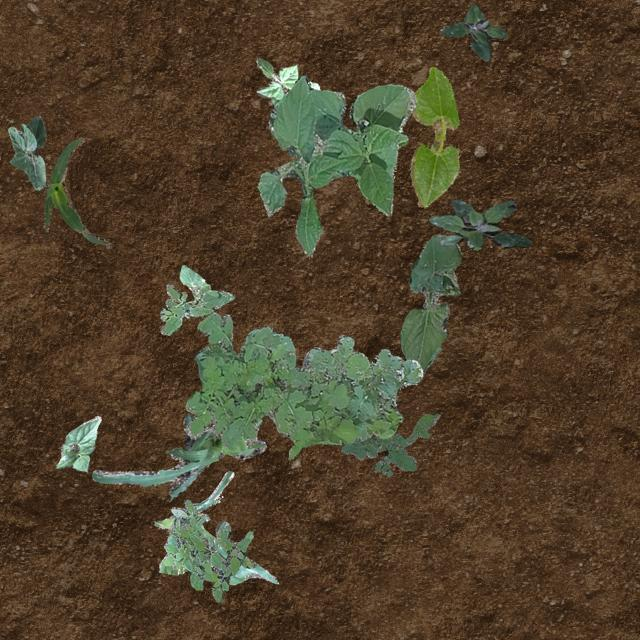crop: (256, 74, 416, 254), (90, 412, 266, 498), (154, 469, 278, 584), (398, 233, 461, 374), (42, 136, 110, 248), (408, 66, 458, 206), (256, 56, 318, 106), (6, 114, 44, 190), (56, 414, 100, 470), (178, 264, 210, 300)
weed: (184, 310, 422, 458), (162, 498, 255, 602), (339, 414, 439, 476), (428, 198, 530, 248), (160, 282, 233, 334), (438, 4, 506, 59)
